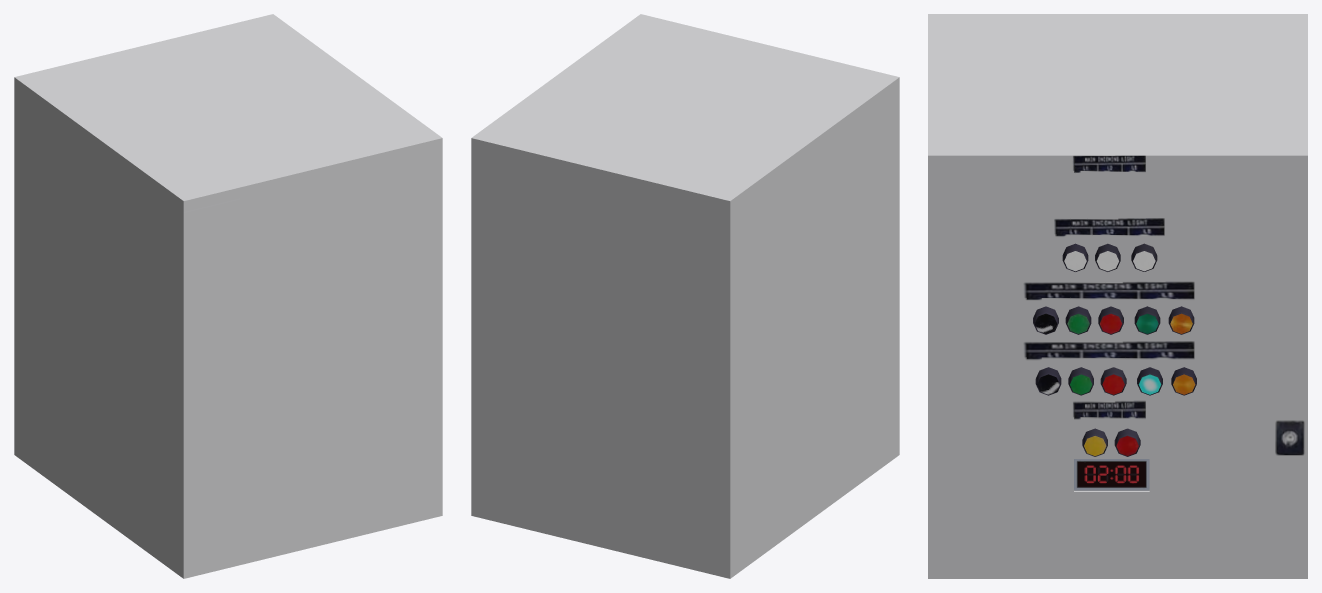
Rendered from control_panel.fbx.
3 views of the same model, side by side, from view 1: azimuth 30°, elevation 25°; view 2: azimuth 150°, elevation 25°; view 3: azimuth 270°, elevation 25° (orthographic). The views are drawn at different scales.
Visible parts, largest first — view 1: control_panel; view 2: control_panel; view 3: control_panel.
Boxes of the visible parts, bbox=[...] form: control_panel: bbox=[14, 14, 442, 578]; control_panel: bbox=[471, 14, 899, 578]; control_panel: bbox=[928, 14, 1307, 578].
Size of the model in its own units: 184 by 246 by 200.
Materials: 2 (2 with a texture image).
